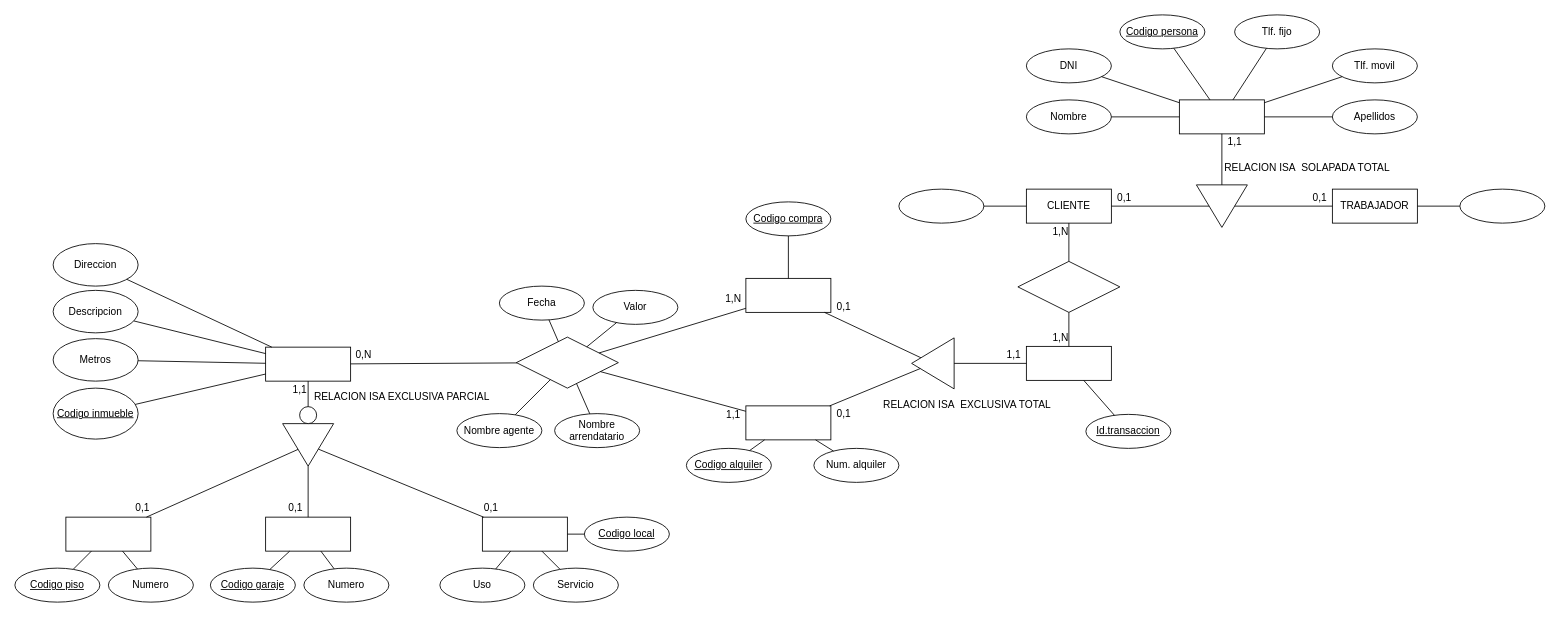
The diagram is 1560 pixels wide and 617 high, and some of its shapes have lost their labels. The shapes that lost their labels are listed below. From the top down, each one's centre as x and y in pixels, then its label:
At (x=1221, y=116): "PERSONA".
At (x=941, y=205): "Codigo cliente".
At (x=1502, y=205): "Codigo trabajador".
At (x=788, y=295): "COMPRA".
At (x=1068, y=286): "HACE".
At (x=308, y=363): "INMUEBLE".
At (x=567, y=362): "REALIZA".
At (x=1068, y=363): "TRANSACCION".
At (x=788, y=422): "ALQUILER".
At (x=108, y=533): "PISO".
At (x=308, y=533): "GARAJE".
At (x=524, y=533): "LOCAL".
